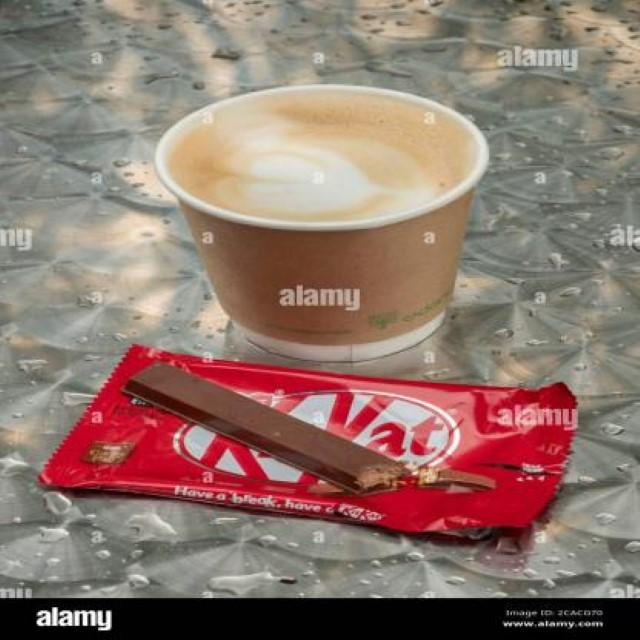kitkat_chocolate: (128, 350, 600, 545)
